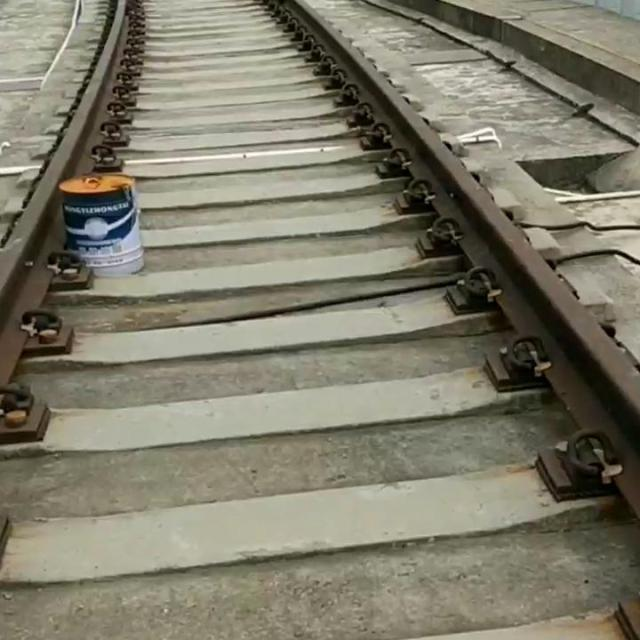danger: (36, 157, 158, 286)
rail: (280, 0, 640, 519), (0, 0, 128, 384)
